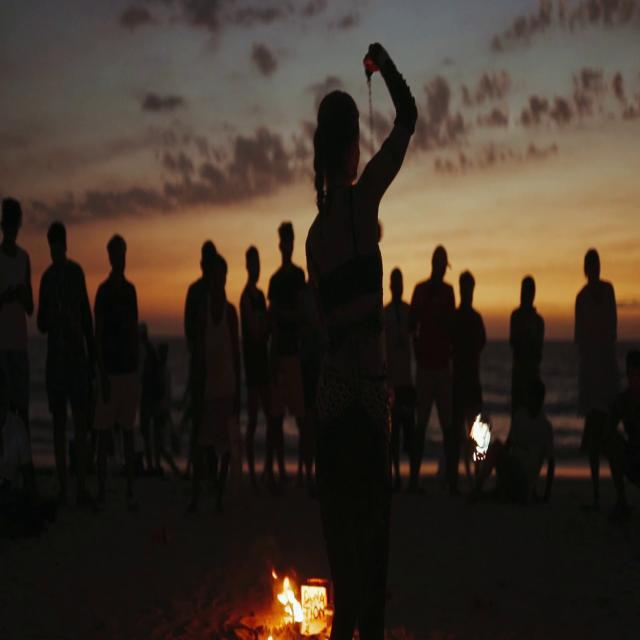Fire: (272, 579, 323, 640), (465, 410, 493, 460)
